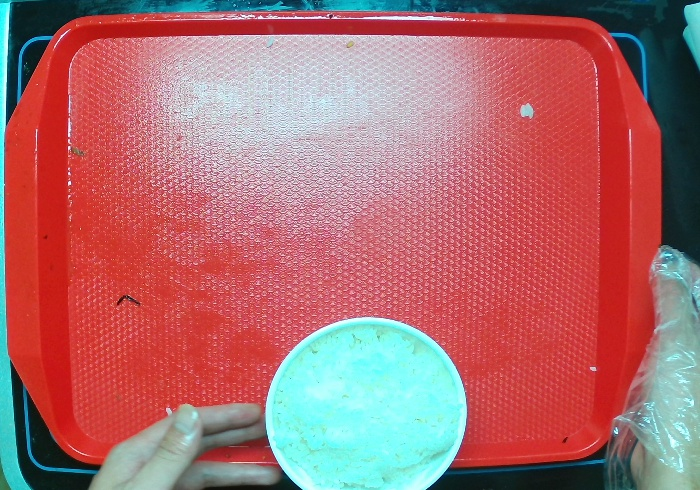YKMZ-Fan_Wan: (263, 316, 467, 490)
